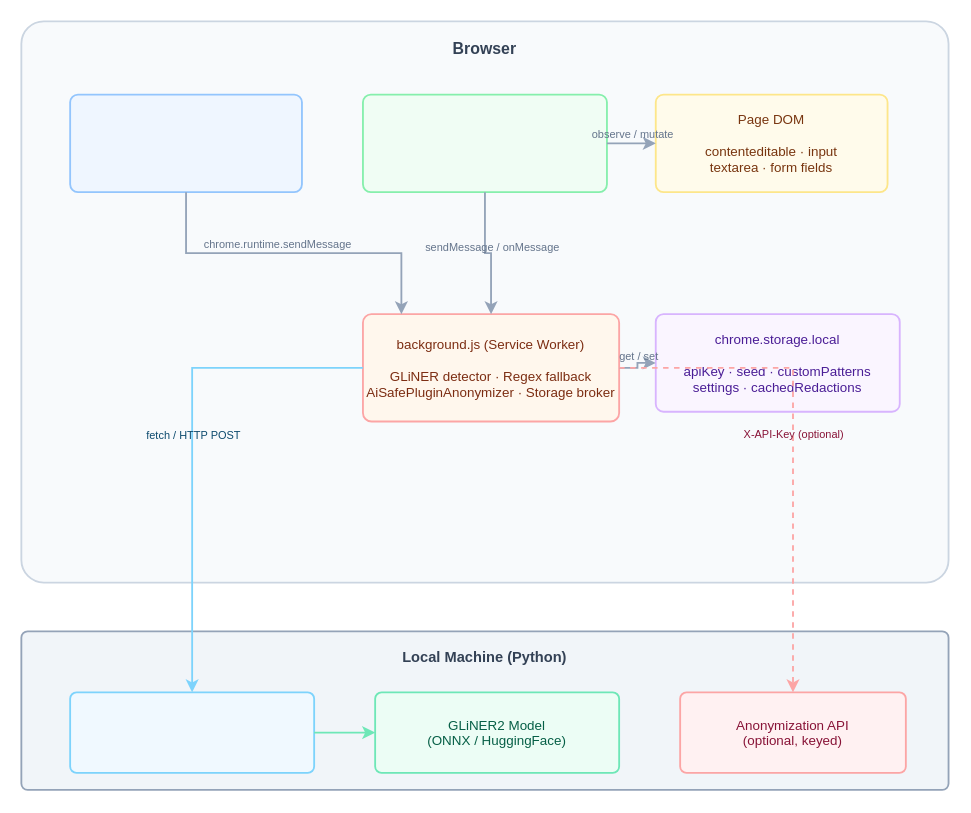
Some shapes in this 971 by 813 pixel diagram are drawn without their labels. Each missing label, with the box of its shape:
content.js MutationObserver · PII render Popover · Token tray: (361, 93, 607, 193)
GLiNER2 HTTP Server 127.0.0.1:8765 NER inference (offline): (69, 691, 315, 773)
popup.html / popup.js HF Token · API Key · Diagnostics: (69, 93, 302, 193)
